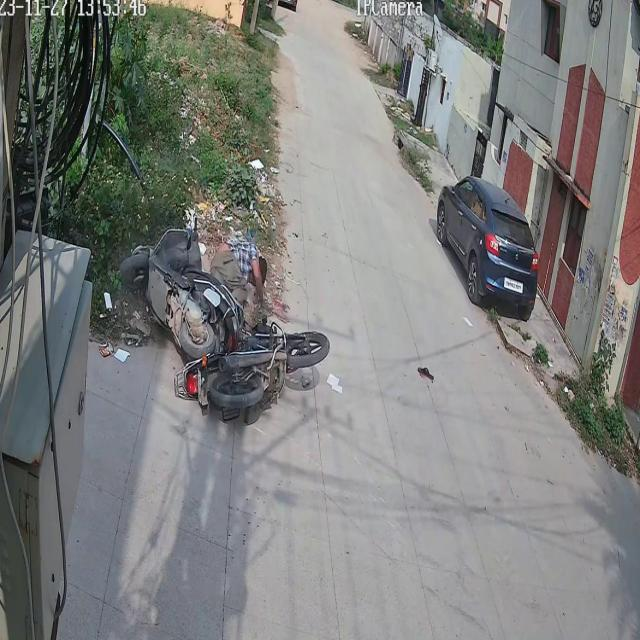accident: (112, 203, 336, 424)
